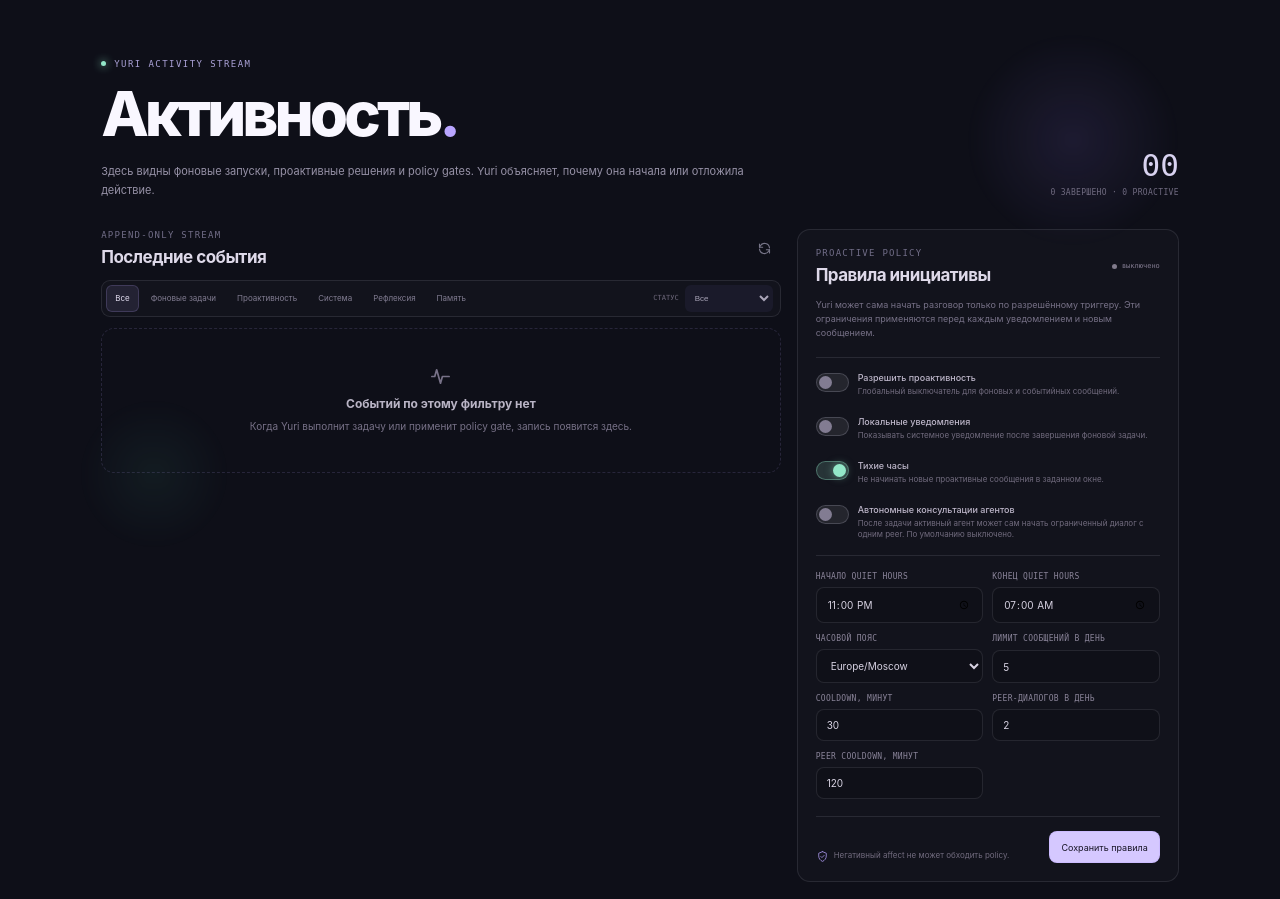
Test case: Activity autonomous peer policy › keeps autonomous peer dialogue opt-in and persists its bounded limits
Click the switch named "Автономные консультации агентов" next to "Автономные консультации агентов". click: {"x": 832, "y": 515}
box: x1=816 y1=505 x2=849 y2=524
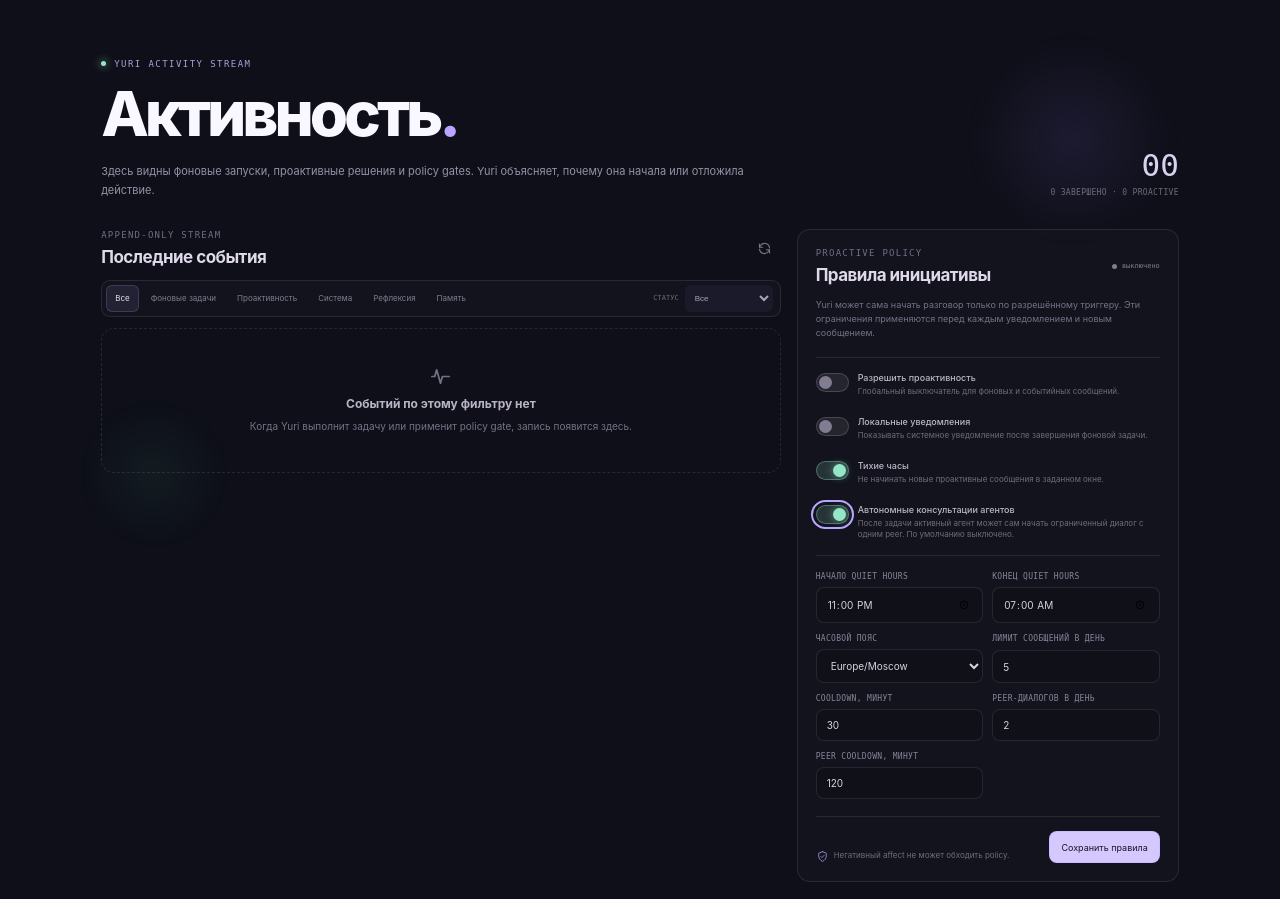
Expected: the switch named "Автономные консультации агентов" next to "Автономные консультации агентов" is checked, x1=816 y1=505 x2=849 y2=524
Replace the text in the number field labelled "Peer-диалогов в день" with "3". click: {"x": 1076, "y": 725}
box: x1=992 y1=709 x2=1160 y2=741
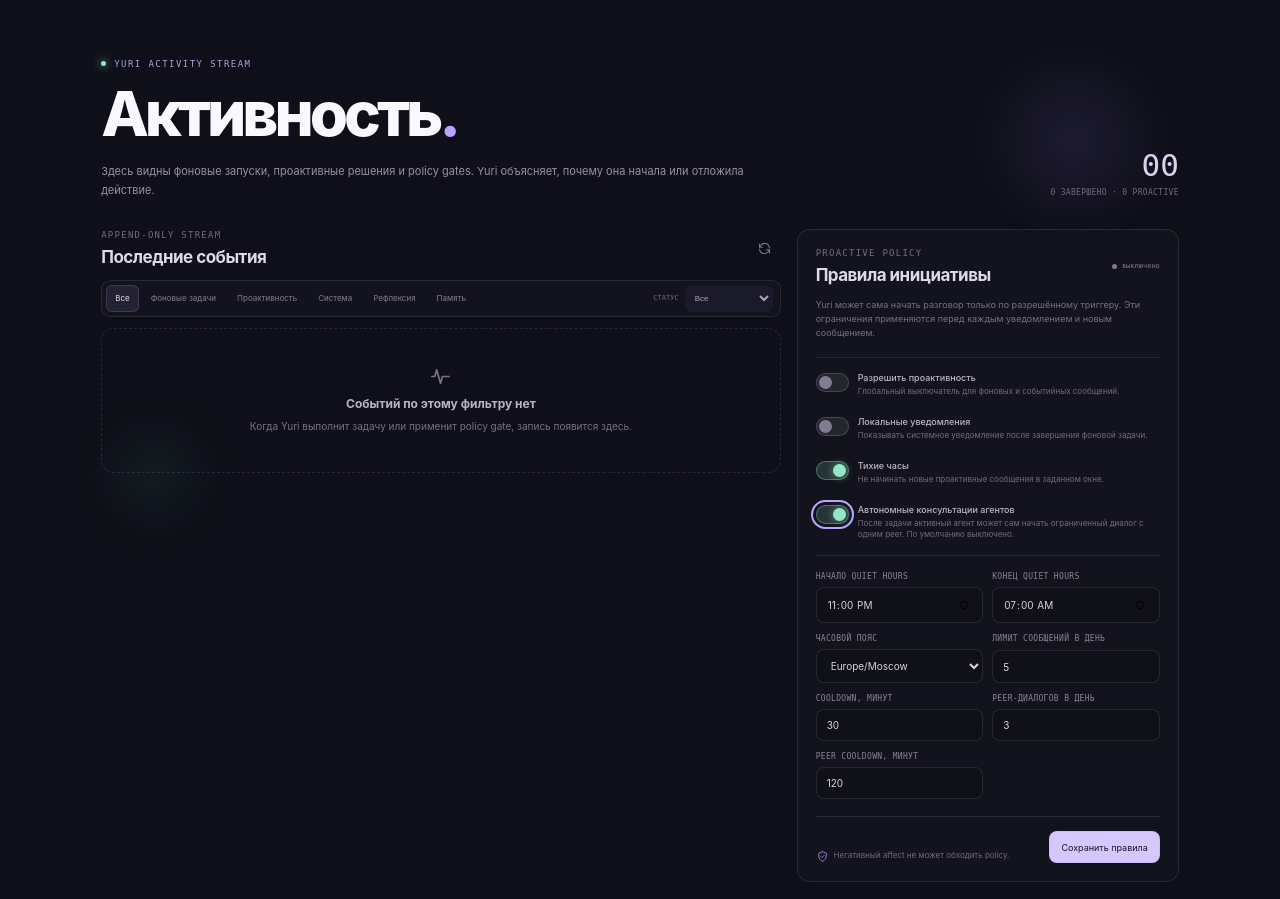
Replace the text in the number field labelled "Peer cooldown, минут" with "90". click: {"x": 899, "y": 783}
box: x1=816 y1=767 x2=983 y2=799
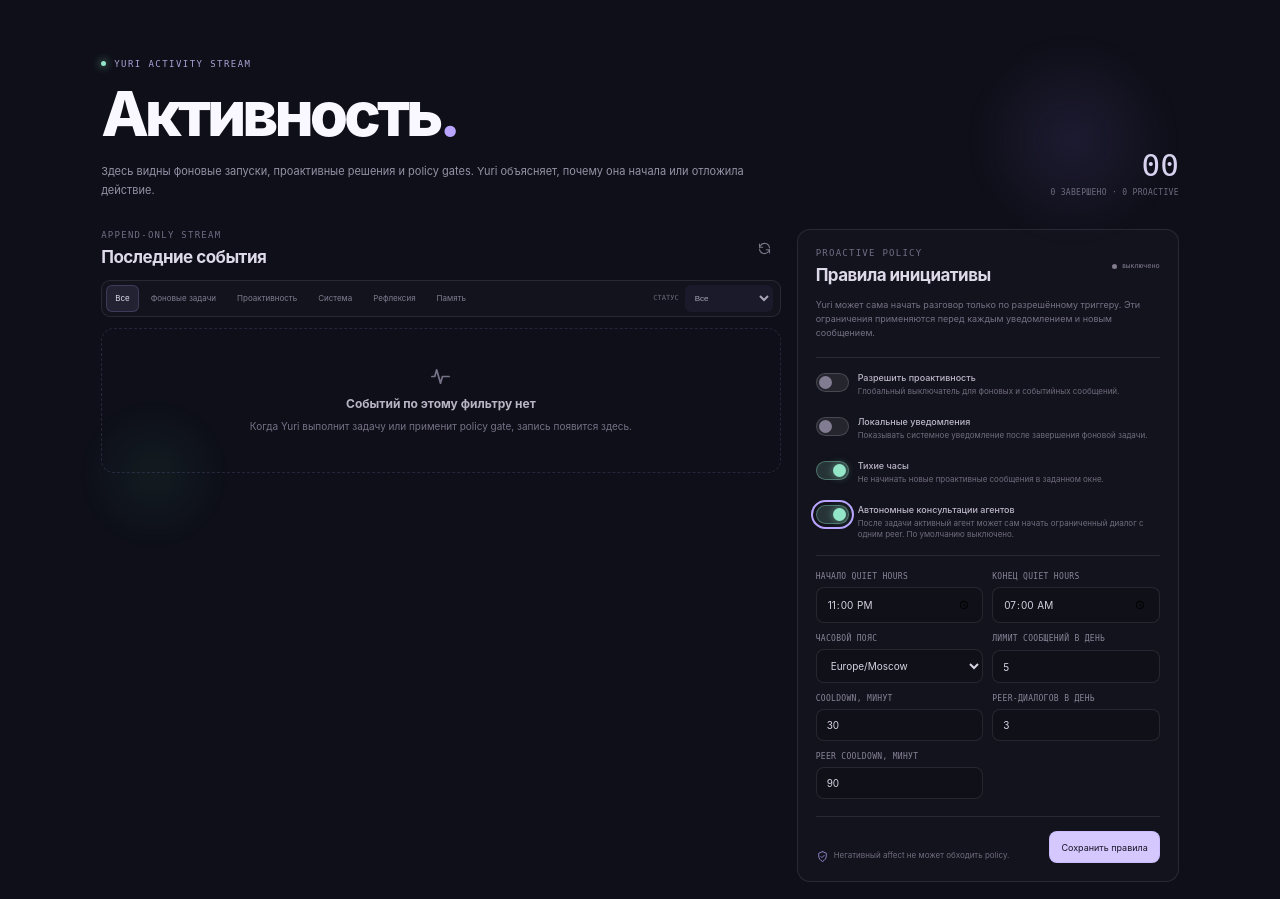
Click the button "Сохранить правила". click: {"x": 1105, "y": 847}
box: x1=1049 y1=831 x2=1160 y2=863
(page scrolled)
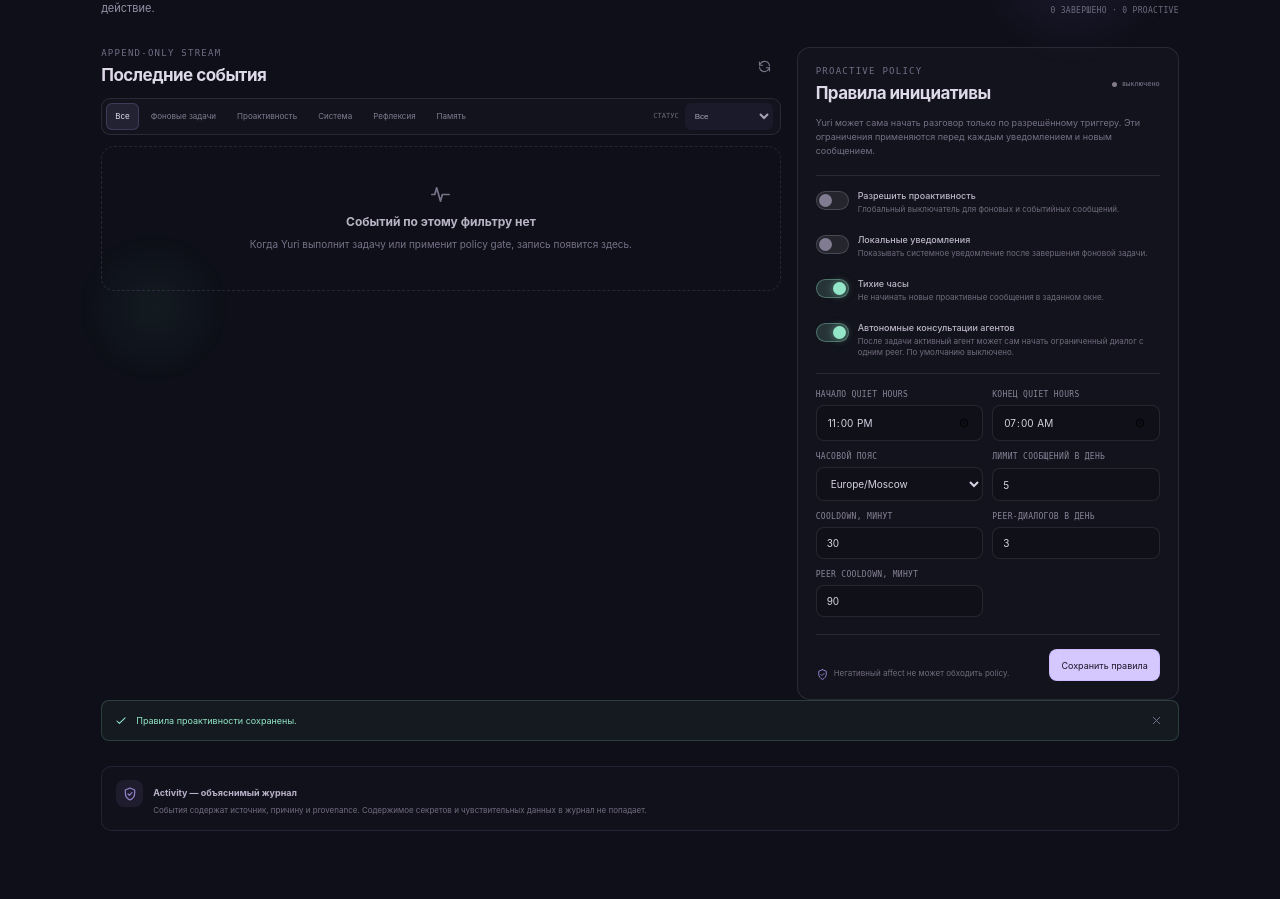
Expected: the text "Правила проактивности сохранены." is shown, x1=101 y1=700 x2=1179 y2=741
